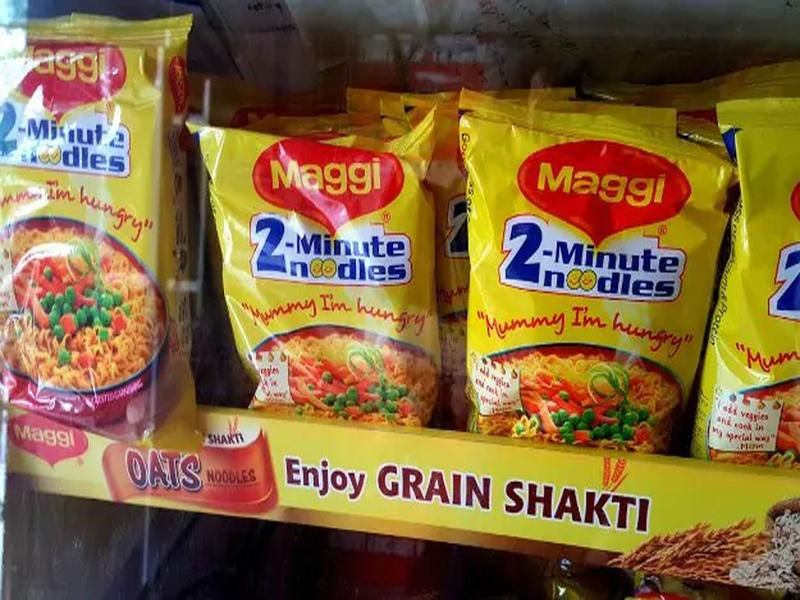maggi-small: (456, 93, 717, 450), (3, 18, 201, 435), (186, 114, 446, 429)
